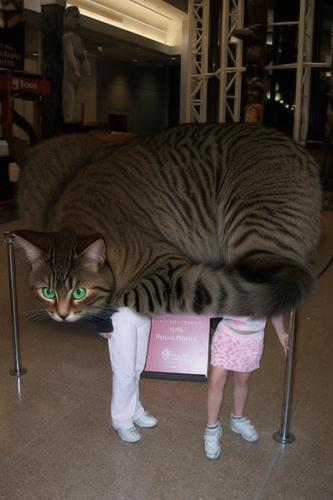cat: (8, 121, 323, 320)
person: (96, 197, 207, 446), (183, 221, 295, 463)
person/foot: (230, 415, 258, 443), (203, 424, 223, 460), (110, 424, 140, 443), (134, 413, 157, 428)
person/hand: (278, 333, 289, 355), (186, 279, 207, 289), (181, 290, 201, 298), (99, 333, 112, 338)
person/head: (131, 197, 161, 235), (238, 224, 265, 263)
